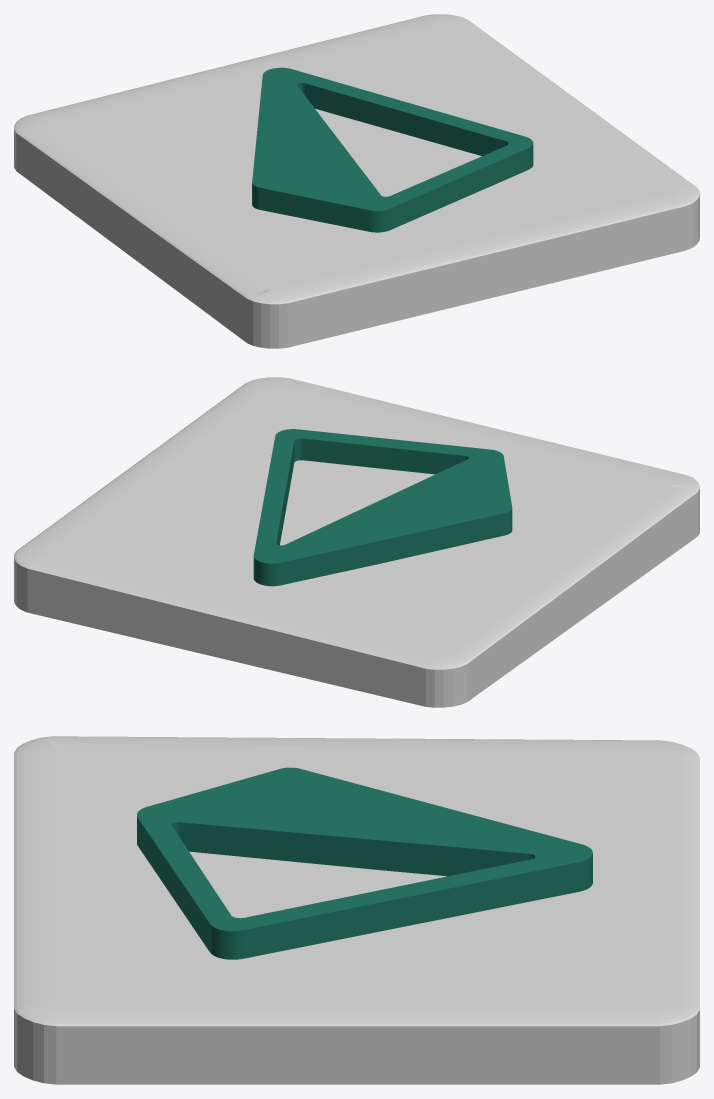
Rendered from prisma.glb.
The picture shows the model from 3 angles, top to bottom: view 1: azimuth 30°, elevation 25°; view 2: azimuth 150°, elevation 25°; view 3: azimuth 270°, elevation 25°; orthographic projection. The views are drawn at different scales.
Visible parts, largest first — view 1: Cube, Curve; view 2: Cube, Curve; view 3: Cube, Curve.
Part boxes in pixels (left/top/right/bottom): Cube: left=14, top=14, right=699, bottom=348; Curve: left=252, top=67, right=533, bottom=232; Cube: left=14, top=377, right=699, bottom=707; Curve: left=253, top=429, right=512, bottom=586; Cube: left=14, top=736, right=699, bottom=1084; Curve: left=137, top=767, right=592, bottom=959.
Size of the model in its own units: 2 by 0.3824 by 2.
